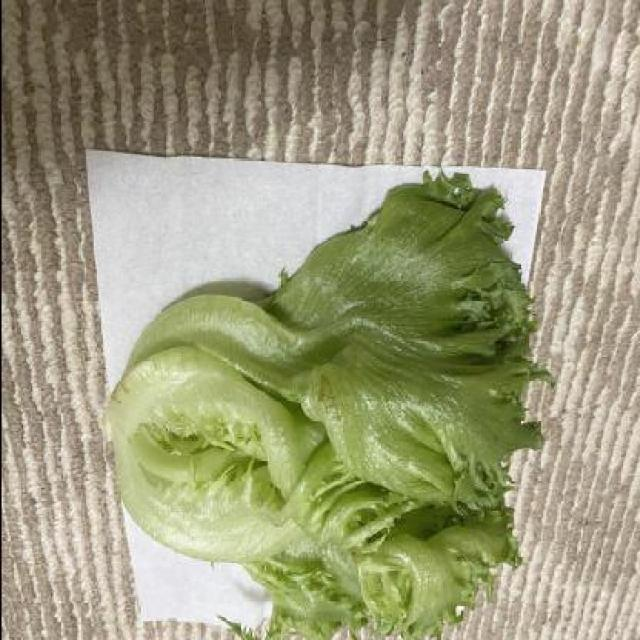Lettuce: (98, 158, 570, 640)
